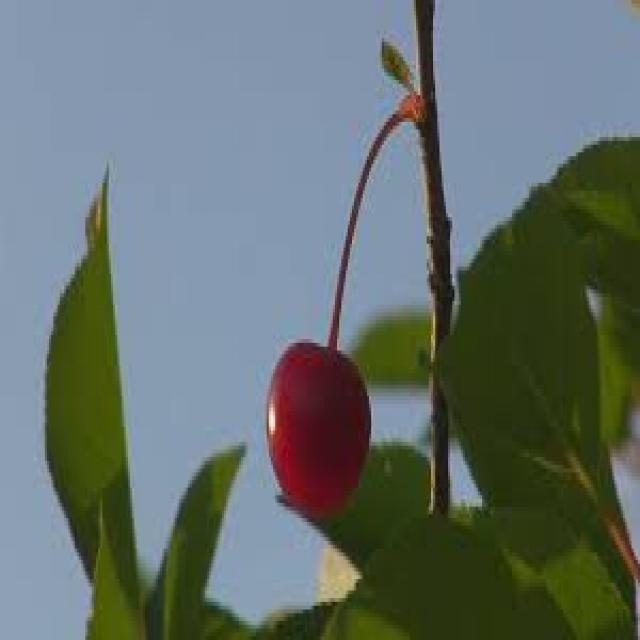organic waste: (418, 266, 600, 548), (43, 160, 143, 636), (141, 438, 243, 636), (262, 339, 372, 518)
